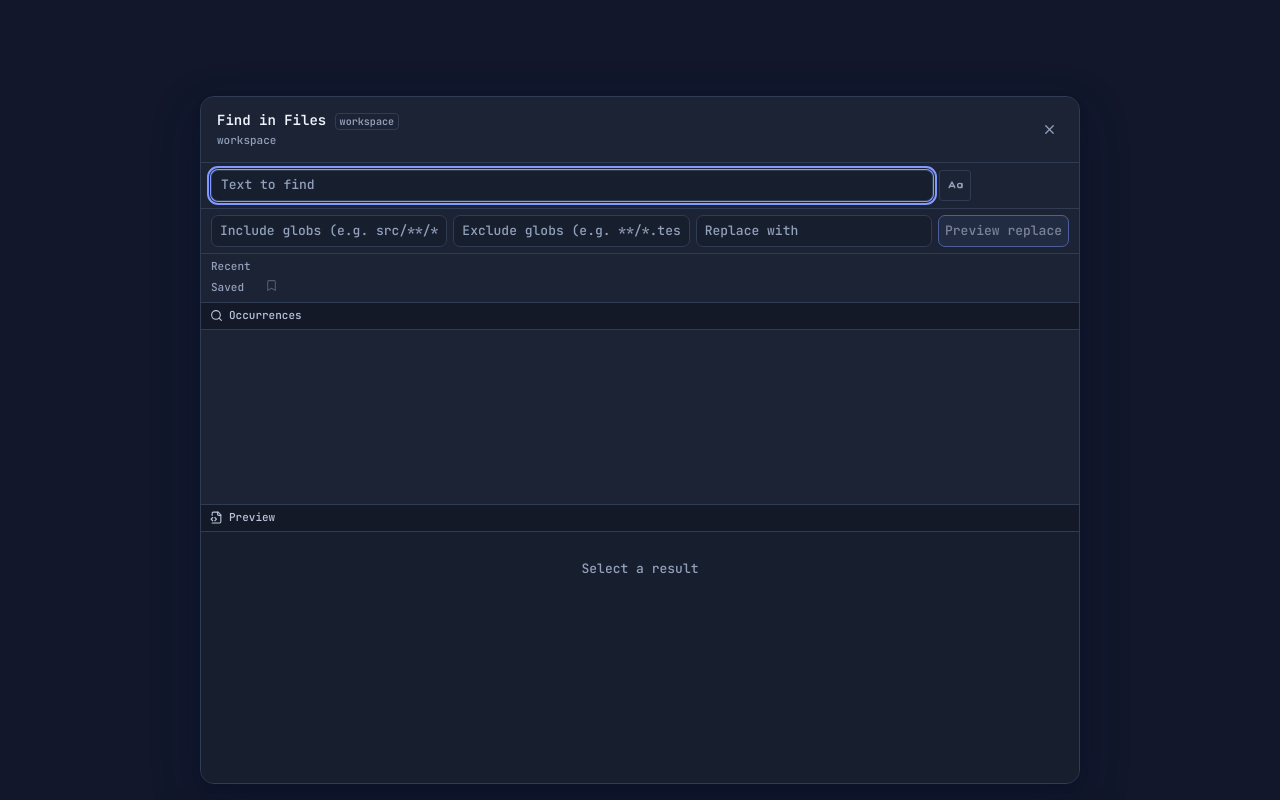
FindInFilesDialog responsive result layout › sends glob controls to Core and renders a per-file replacement preview
Type "needle" into the field labelled "Text to find". click: (572, 186)
box: [211,170,933,201]
Wait 600 ms
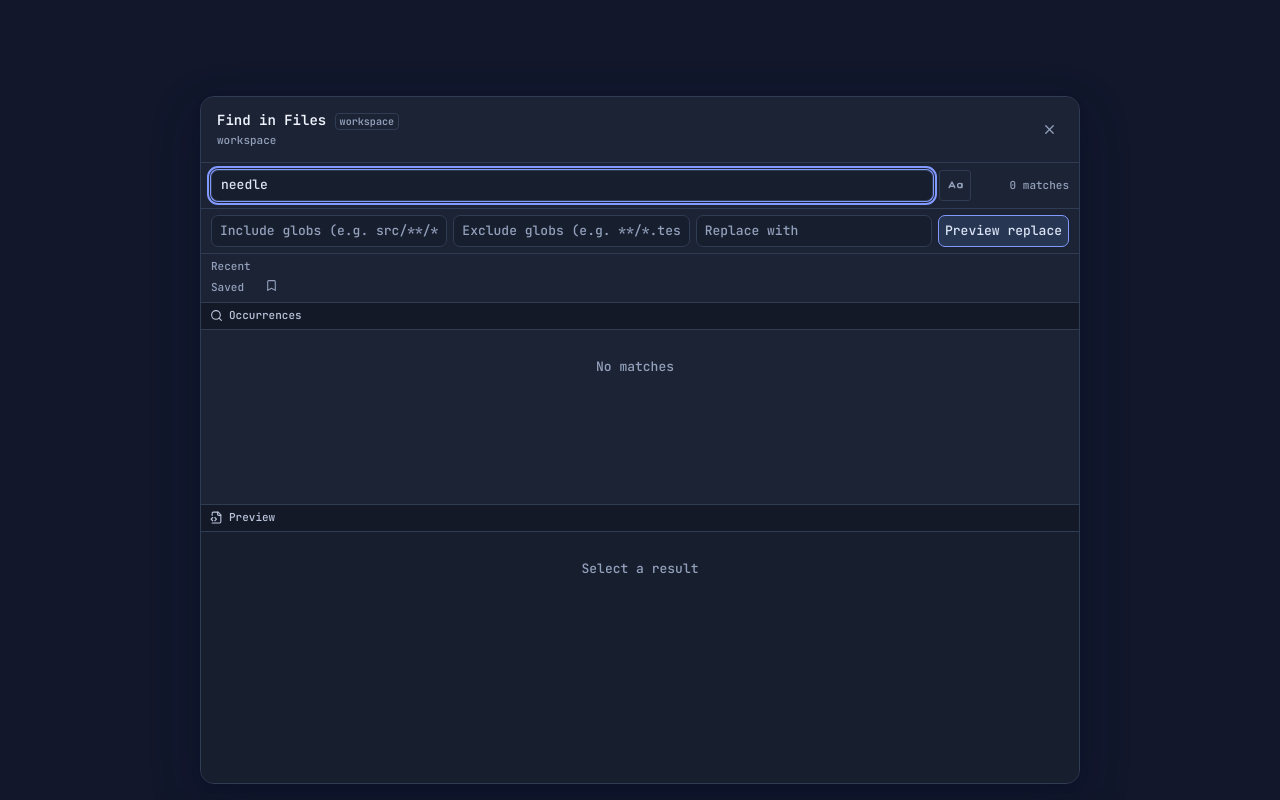
Type "src/**/*.ts" into the field labelled "Include globs". click: (329, 231)
box: [211,215,447,247]
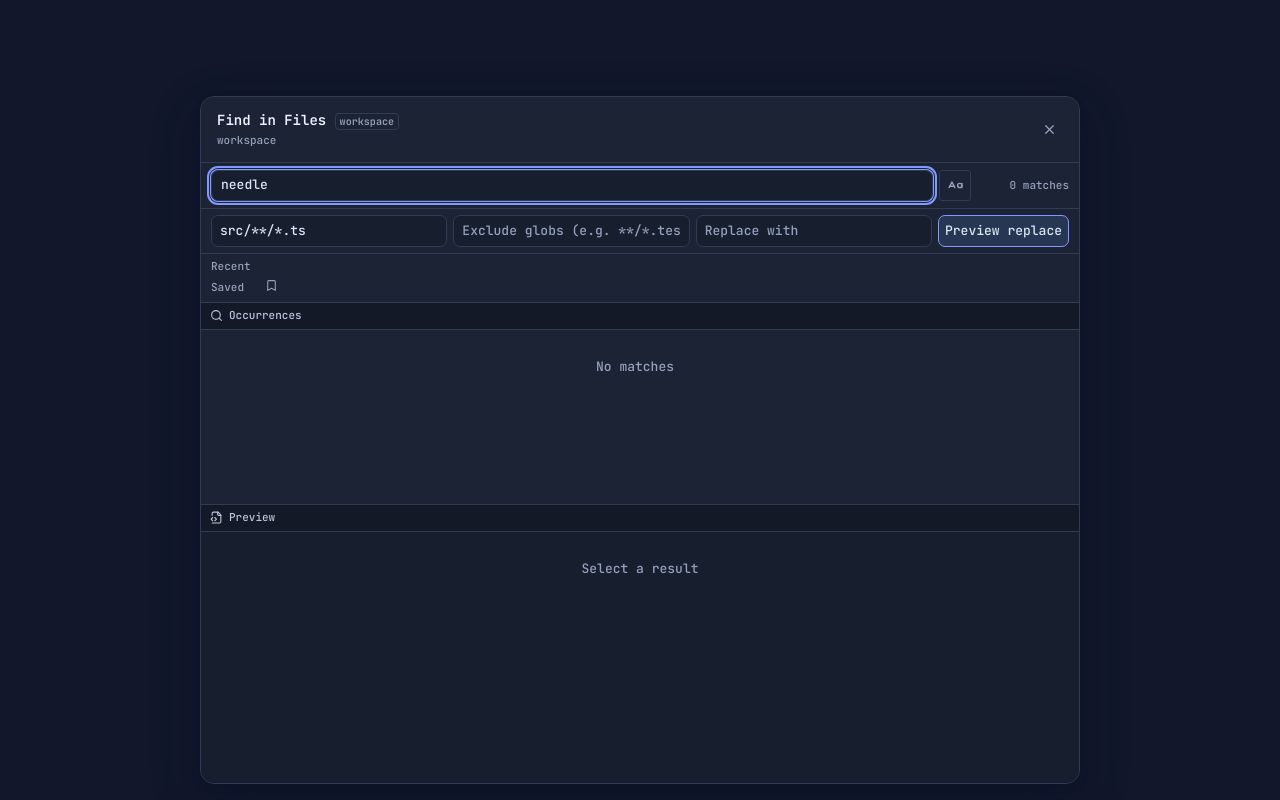
Type "**/*.test.ts" into the field labelled "Exclude globs". click: (571, 231)
box: [453,215,690,247]
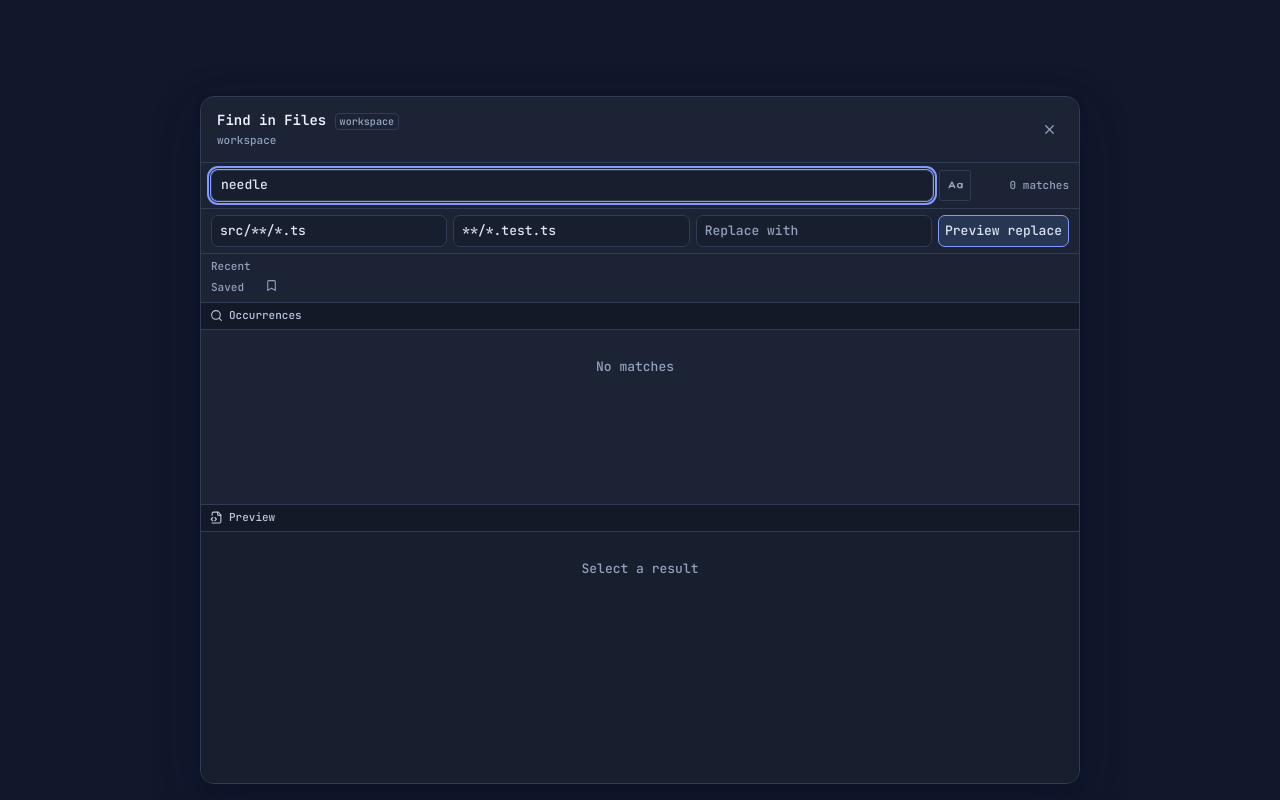
Type "replacement" into the field labelled "Replace with". click: (814, 231)
box: [696,215,932,247]
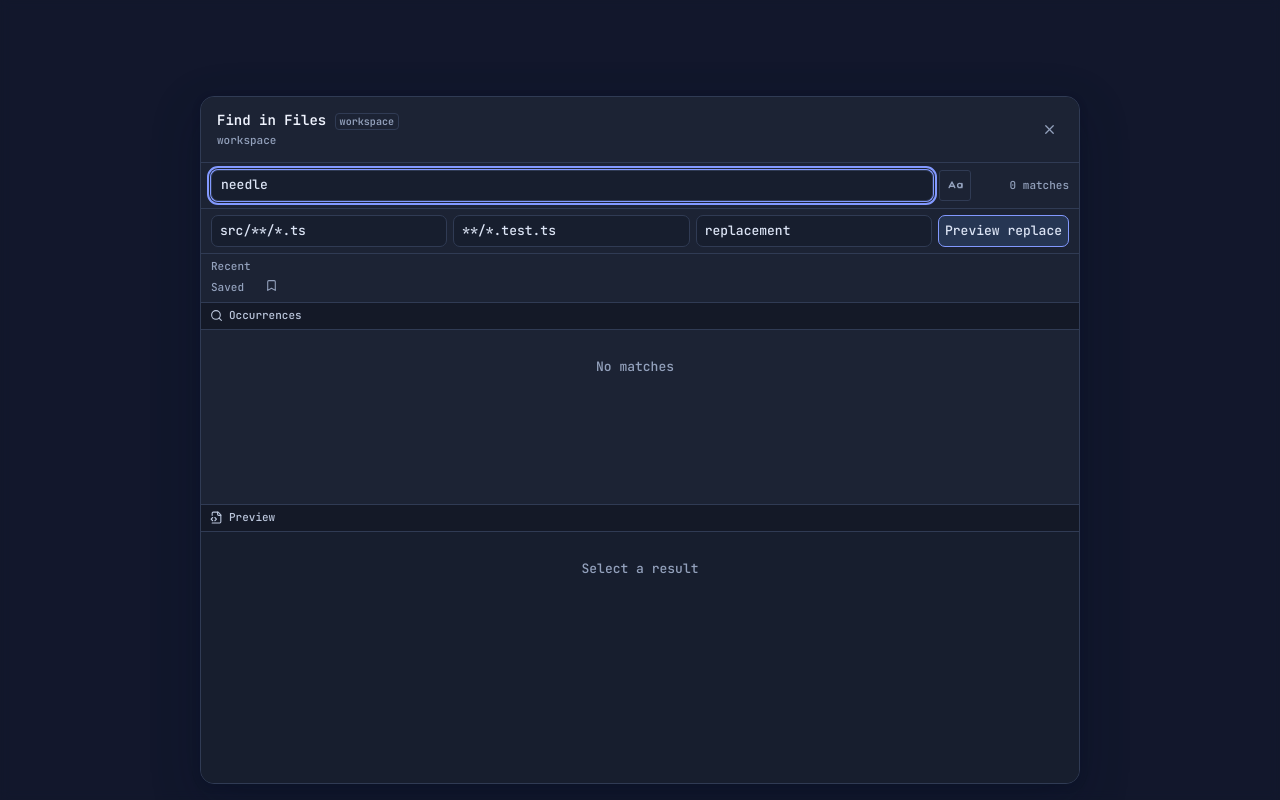
Click the button "Preview replace". click: (1004, 231)
box: [938,215,1069,247]
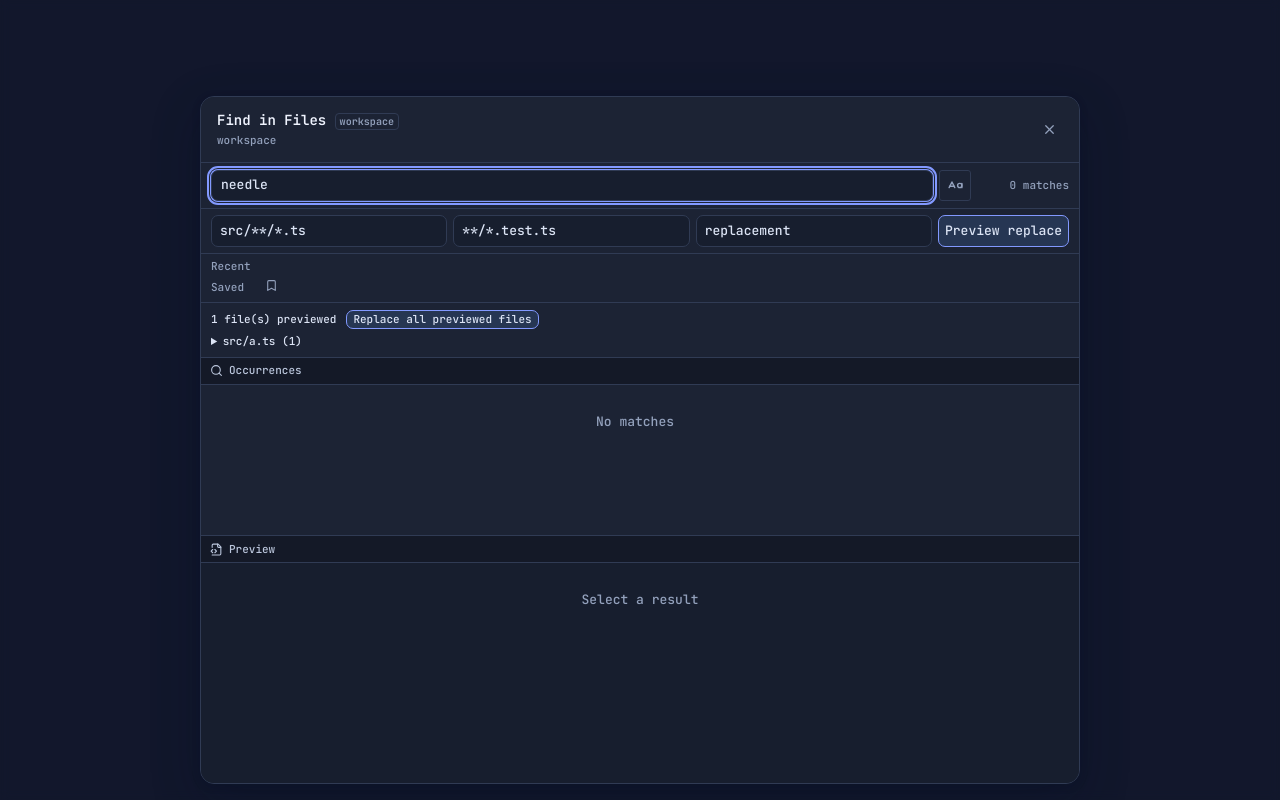
Check: the element named "Replace preview" shows "src/a.ts", box [223,334,275,348]
